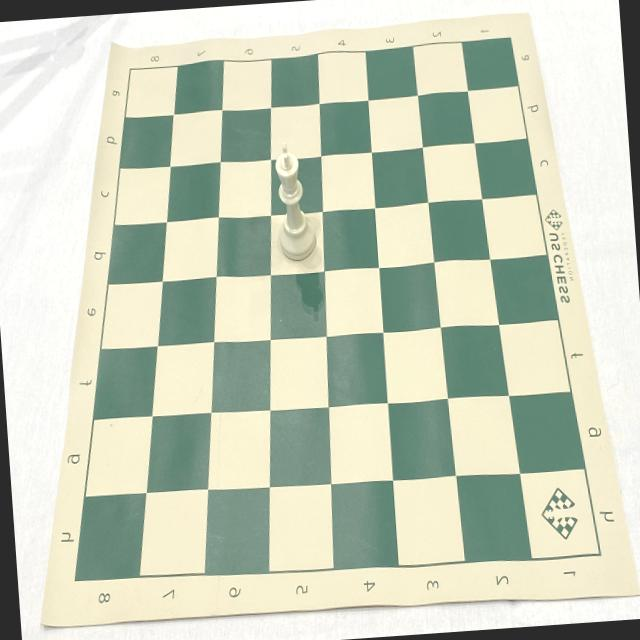white-king: (271, 140, 318, 262)
